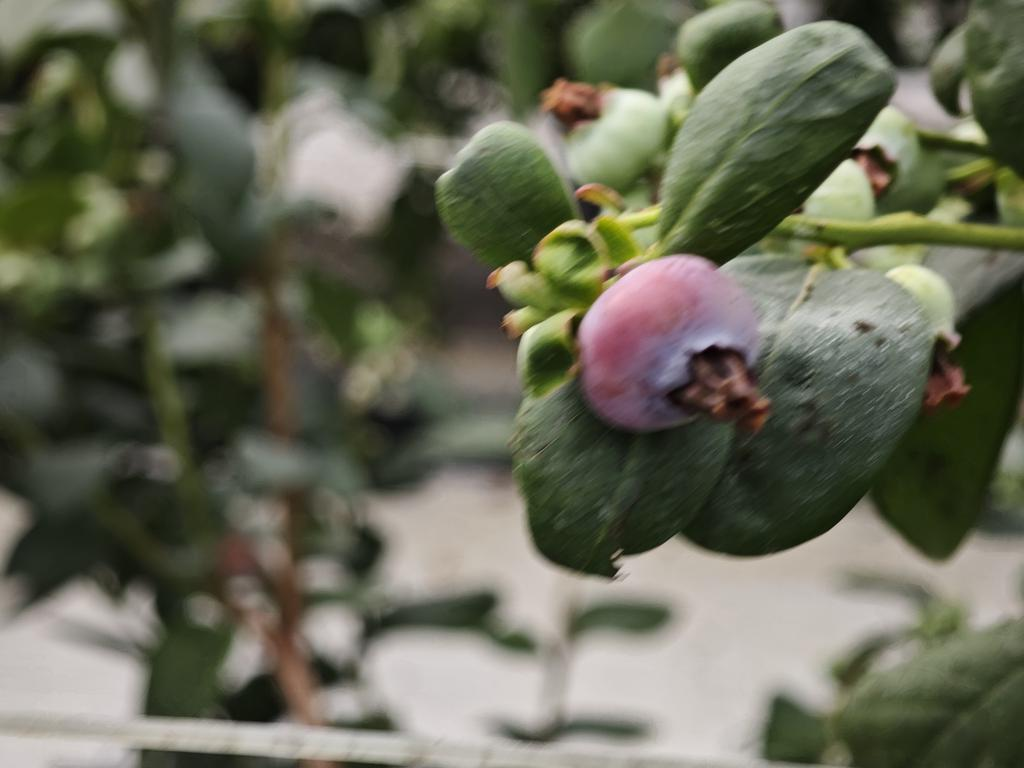Semi-RipeBlueBerry: (576, 253, 761, 435)
